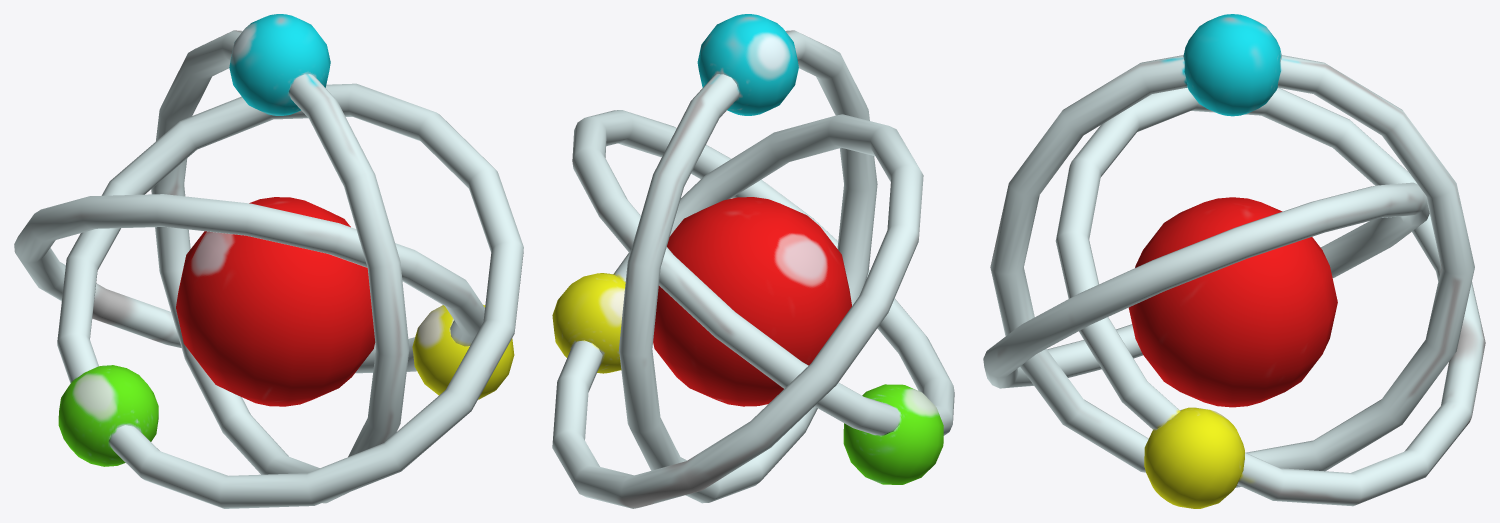
File: MA_Prop_Atom_model_for_game.fbx
3 renders of one model, left to right at view 1: azimuth 30°, elevation 25°; view 2: azimuth 150°, elevation 25°; view 3: azimuth 270°, elevation 25°, orthographic.
Parts seen in each view (by area): view 1: Sphere001; view 2: Sphere001; view 3: Sphere001.
Boxes of the visible parts, x1=… form: Sphere001: x1=14, y1=14, x2=523, y2=508; Sphere001: x1=552, y1=14, x2=954, y2=508; Sphere001: x1=983, y1=14, x2=1485, y2=508.
Bounding box in the file's own units: 36.35 × 39.48 × 38.4.
